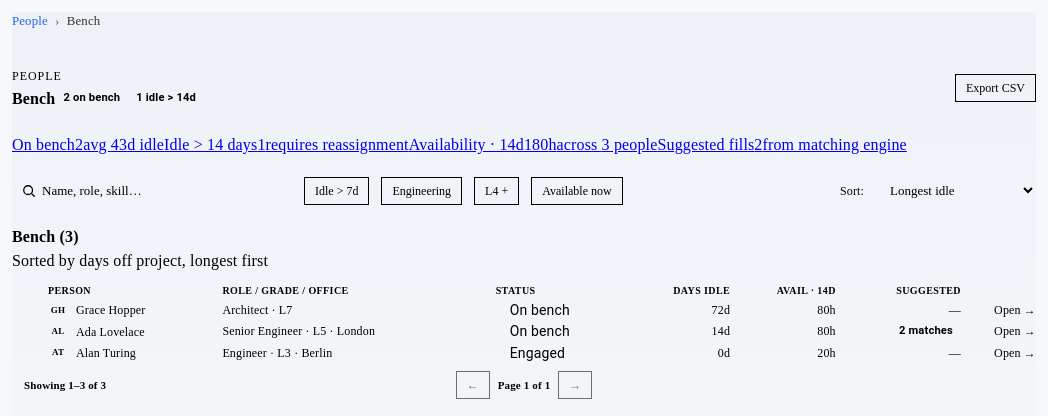
it: BenchEnrichedPanel — SoT PR 17h-bench DS canvas filter+bulk bars › L4 + chip keeps only people with grade L4 or higher
Expected: the element with test id "bench-enriched-list" is shown, [12,281,1036,363]
Click the button with test id "bench-chip-l4plus" at (497, 191), box [474,177,519,205]
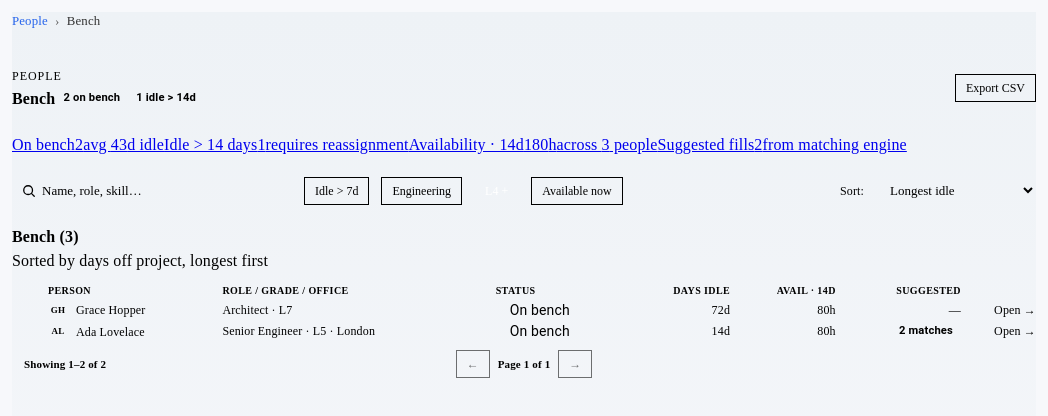
Expected: the text "Ada Lovelace" is shown, [76,323,145,341]
Expected: the link "Alan Turing" is gone
